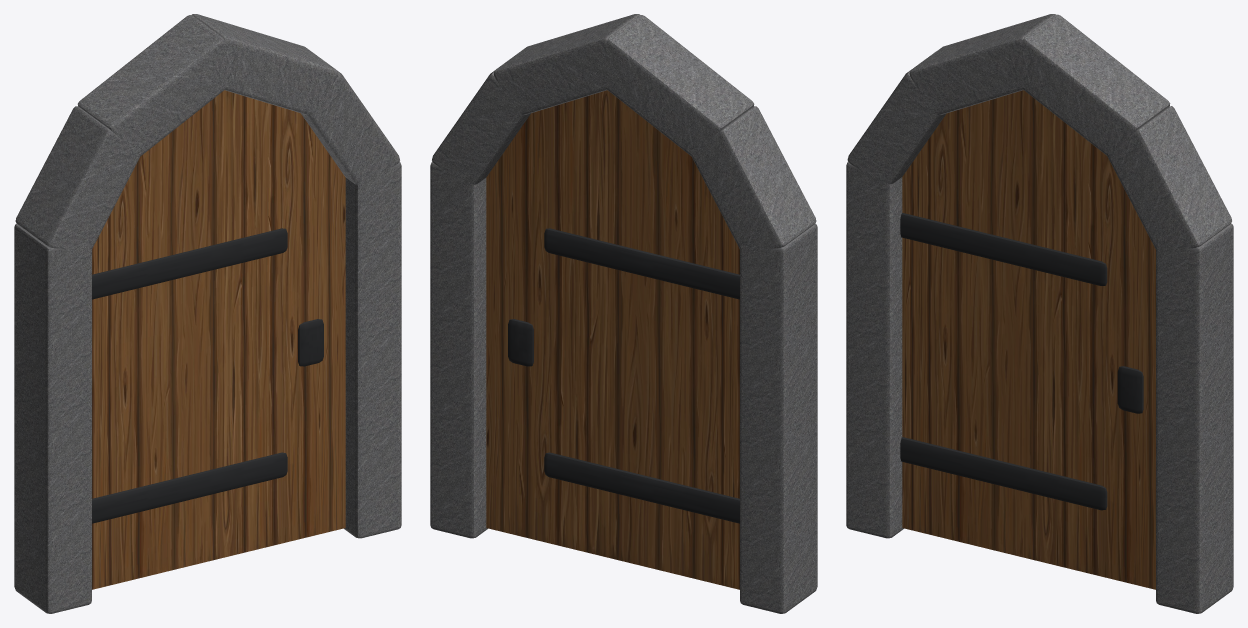
File: CMSC425 Door Model.fbx
3 renders of one model, left to right at view 1: azimuth 30°, elevation 25°; view 2: azimuth 150°, elevation 25°; view 3: azimuth 330°, elevation 25°, orthographic.
Parts seen in each view (by area): view 1: door; view 2: door; view 3: door.
Boxes of the visible parts, x1,y1,x2,y2 form: door: (14, 14, 401, 613); door: (430, 14, 817, 613); door: (846, 14, 1233, 613).
Bounding box in the file's own units: 4.6 × 6.6 × 0.8.
Materials: 4 (4 with a texture image).
